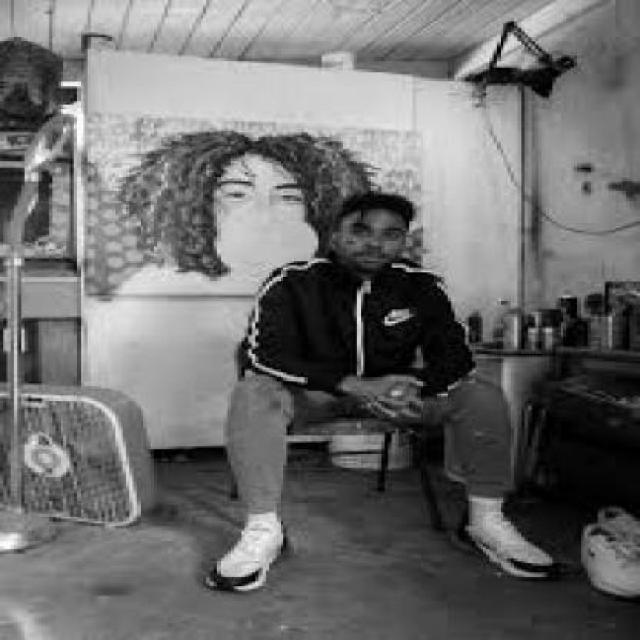Nike: (375, 303, 417, 321)
